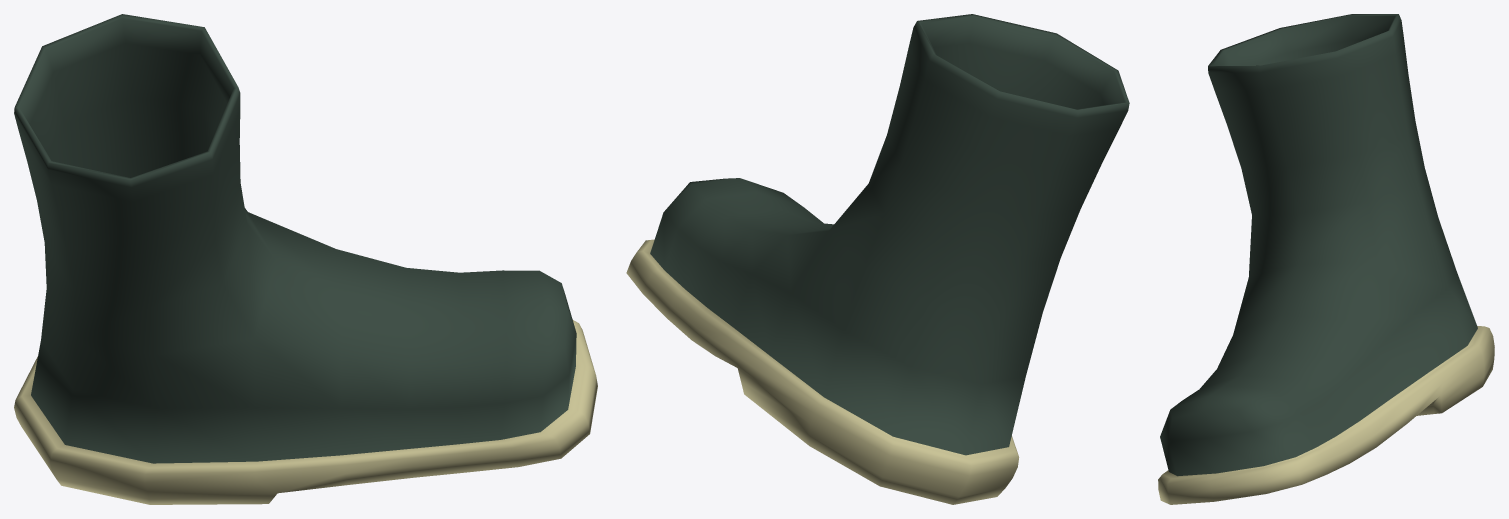
The model's file is boot.fbx.
3 renders of one model, left to right at view 1: azimuth 30°, elevation 25°; view 2: azimuth 150°, elevation 25°; view 3: azimuth 270°, elevation 25°, orthographic. The views are drawn at different scales.
Parts seen in each view (by area): view 1: boot.002; view 2: boot.002; view 3: boot.002.
Boxes of the visible parts, x1=… form: boot.002: x1=14, y1=14, x2=597, y2=504; boot.002: x1=626, y1=14, x2=1129, y2=504; boot.002: x1=1158, y1=14, x2=1494, y2=504.
Bounding box in the file's own units: 110 × 91.19 × 72.98.
